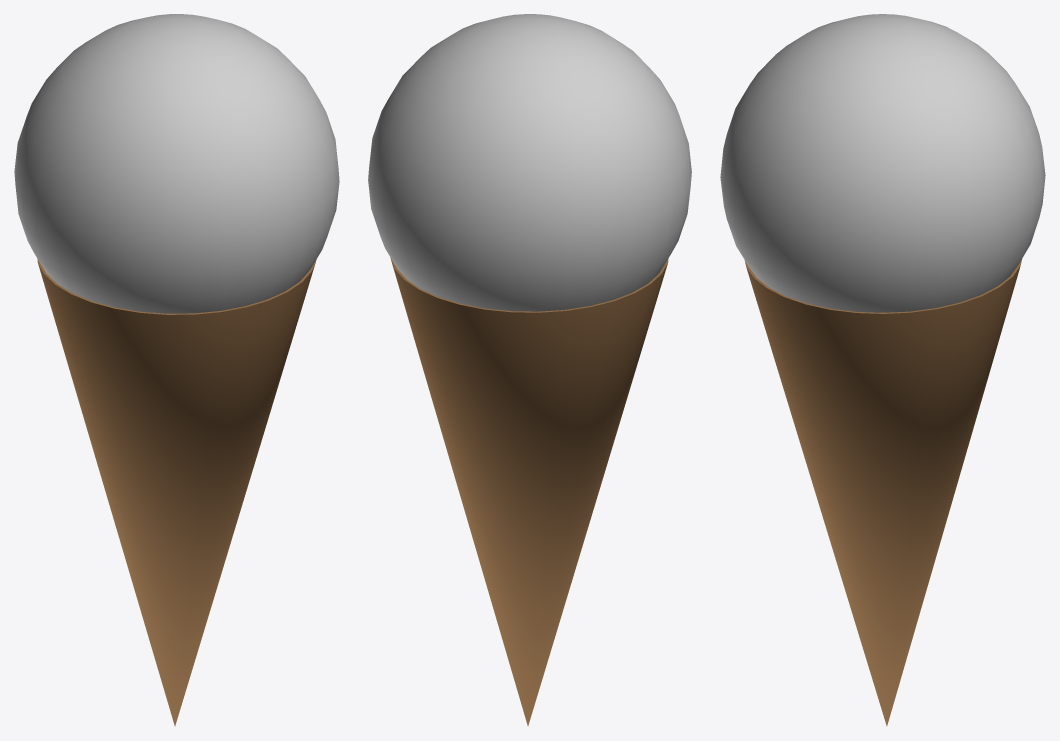
File: Comida_VR09.fbx
The picture shows the model from 3 angles, left to right: view 1: azimuth 30°, elevation 25°; view 2: azimuth 150°, elevation 25°; view 3: azimuth 270°, elevation 25°; orthographic projection.
Parts seen in each view (by area): view 1: Helado; view 2: Helado; view 3: Helado.
Boxes of the visible parts, box(x1,y1,x2,y2) form: Helado: box(14, 14, 339, 726); Helado: box(368, 14, 691, 726); Helado: box(720, 14, 1045, 726).
Bounding box in the file's own units: 89.44 × 212 × 89.44.
